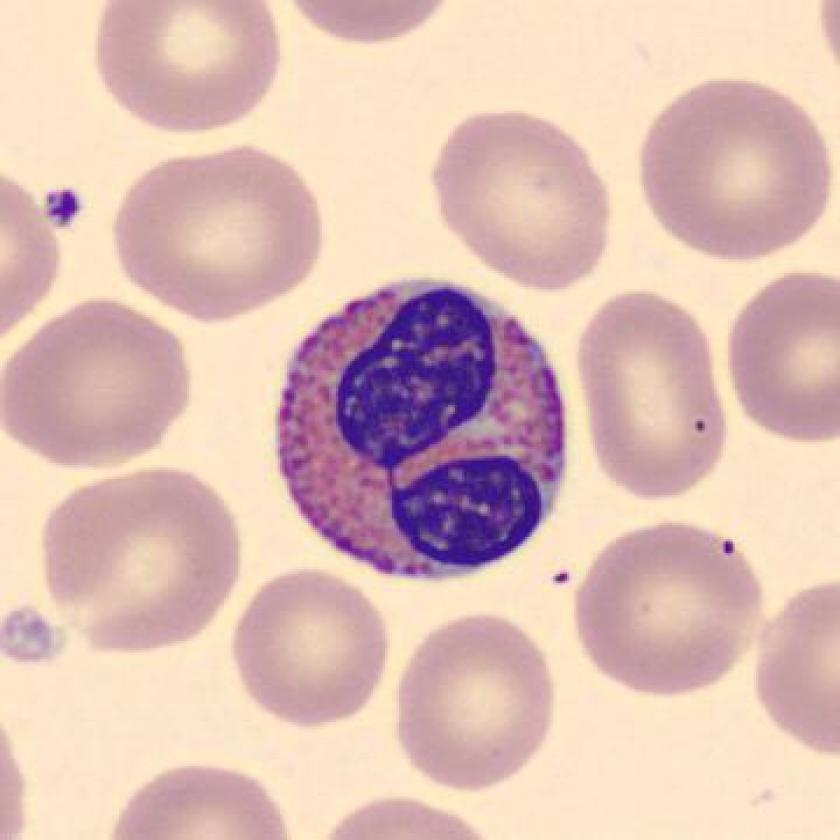eosinophil: (267, 265, 577, 589)
